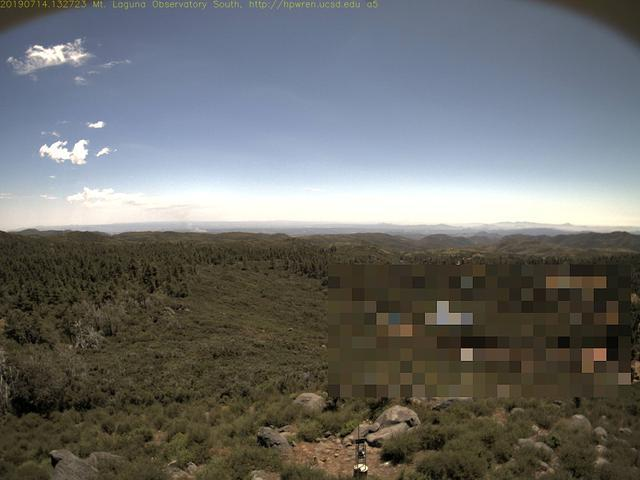smoke: (124, 197, 216, 236)
